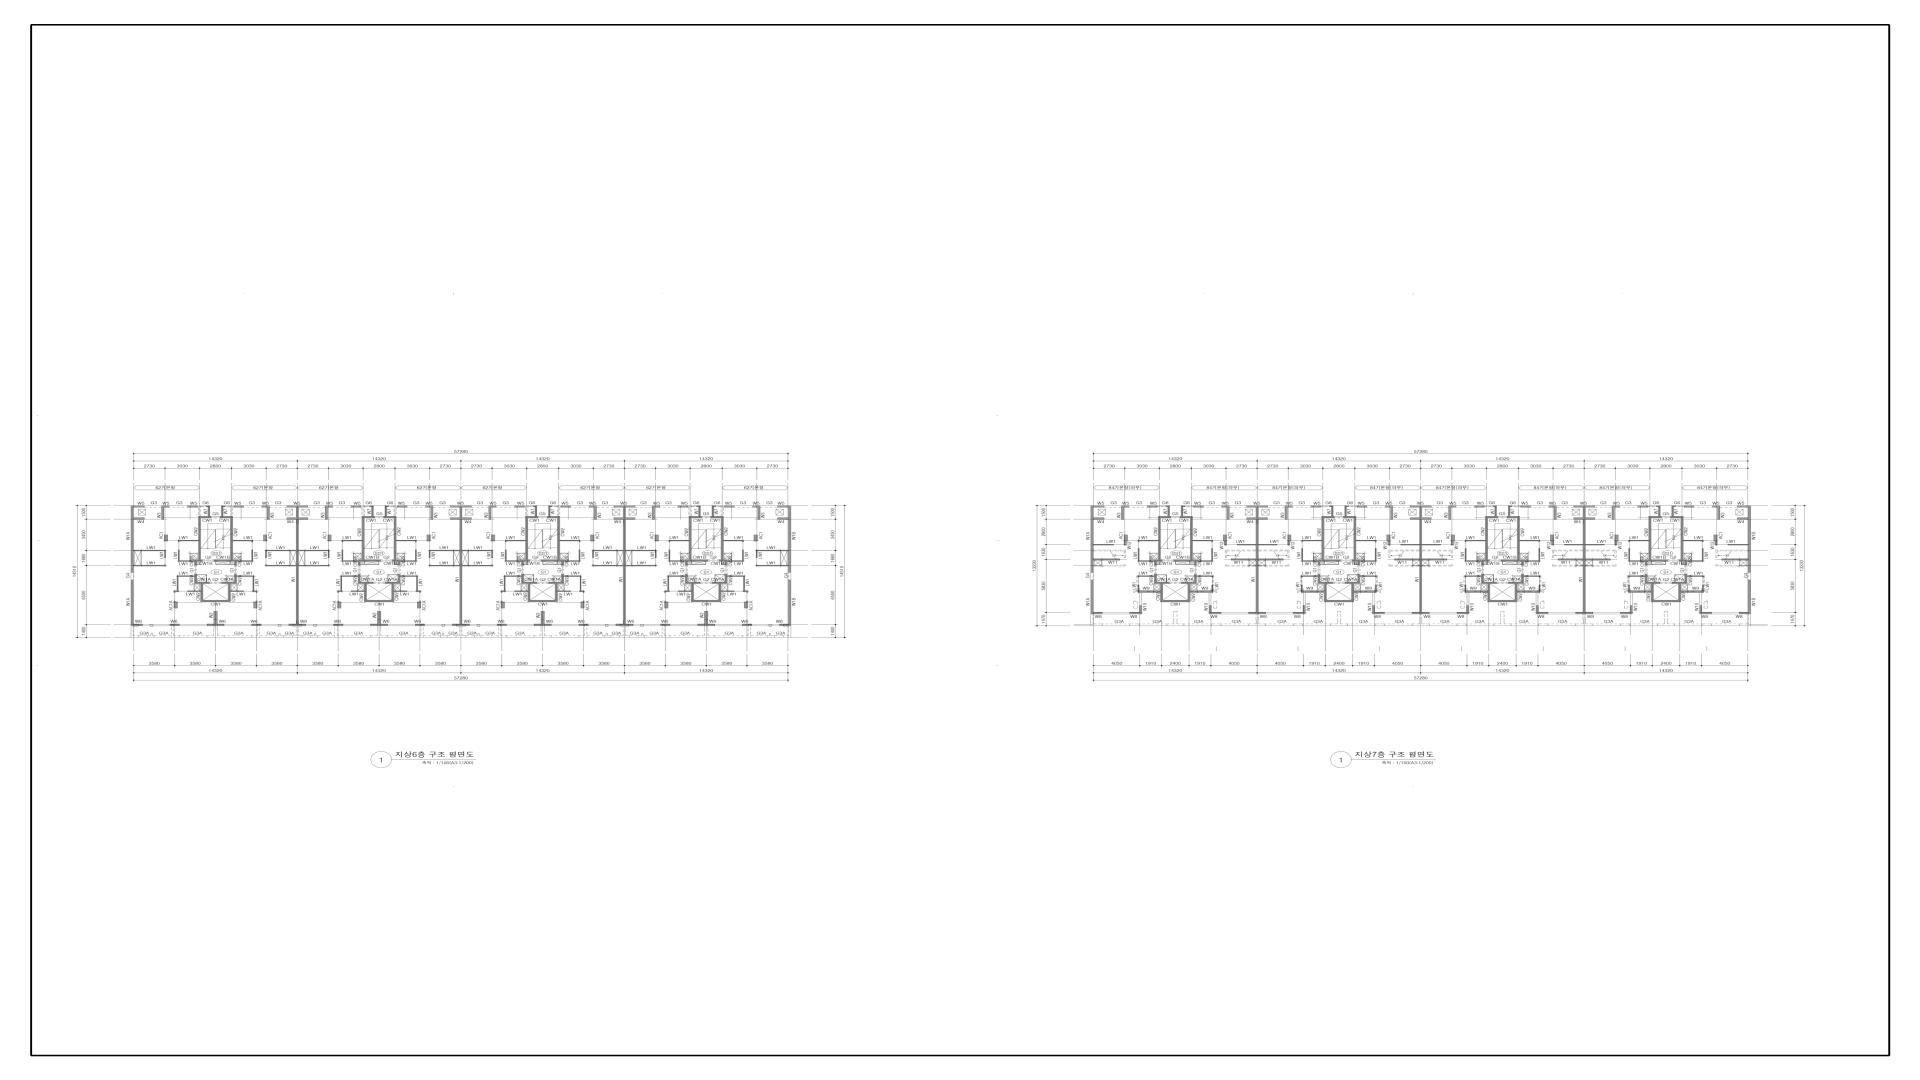wall: (778, 505, 791, 572), (1738, 505, 1751, 572), (131, 580, 142, 626), (779, 580, 791, 626), (194, 575, 210, 603), (222, 575, 237, 603), (385, 575, 401, 603), (521, 575, 537, 603), (549, 575, 564, 603), (1154, 575, 1170, 603), (1317, 575, 1333, 603), (1481, 575, 1497, 603), (1644, 575, 1660, 603), (1509, 575, 1524, 603), (712, 575, 728, 601), (1672, 575, 1688, 601), (1739, 580, 1751, 615), (1091, 580, 1102, 615), (359, 575, 373, 603), (686, 575, 700, 603), (1182, 575, 1196, 603), (1345, 575, 1360, 603), (231, 516, 237, 566), (394, 516, 401, 566), (357, 516, 364, 566), (521, 516, 527, 566), (558, 516, 564, 566), (721, 516, 728, 566), (1317, 516, 1324, 566), (1481, 516, 1487, 566), (1681, 516, 1688, 566), (1644, 516, 1651, 566), (1518, 516, 1524, 566), (624, 520, 626, 624), (207, 611, 224, 626), (371, 611, 388, 626), (534, 611, 551, 626), (698, 611, 715, 626), (297, 524, 299, 624), (686, 516, 691, 566), (1191, 516, 1196, 566), (1354, 516, 1360, 566), (756, 550, 789, 558), (287, 505, 309, 517), (451, 505, 472, 517), (615, 505, 636, 517), (429, 550, 460, 558), (592, 550, 624, 558), (462, 550, 493, 558), (1246, 505, 1267, 517), (1410, 505, 1431, 517), (1582, 520, 1585, 612), (626, 550, 657, 558), (1575, 505, 1594, 517), (1255, 524, 1258, 612), (1196, 549, 1213, 562), (1360, 549, 1377, 562), (1523, 549, 1540, 562), (1138, 549, 1154, 562), (1302, 549, 1317, 562), (1465, 549, 1481, 562), (1629, 549, 1644, 562), (1688, 549, 1704, 562), (236, 550, 253, 562), (342, 550, 359, 562), (669, 550, 686, 562), (178, 550, 194, 562), (505, 550, 521, 562), (401, 550, 417, 562), (564, 550, 580, 562), (728, 550, 744, 562), (1354, 584, 1377, 592), (1138, 584, 1160, 592), (1302, 584, 1324, 592), (1465, 584, 1487, 592), (1629, 585, 1651, 593), (1518, 584, 1540, 592), (1191, 585, 1213, 592), (1681, 585, 1704, 592), (131, 520, 133, 572), (1091, 520, 1093, 572), (460, 520, 462, 624), (1420, 520, 1422, 612), (198, 516, 200, 559), (161, 505, 169, 520), (324, 505, 332, 520), (589, 505, 597, 520), (753, 505, 761, 520), (1121, 505, 1129, 520), (1221, 505, 1229, 520), (1284, 505, 1292, 520), (1448, 505, 1456, 520), (1158, 516, 1160, 559), (1130, 605, 1142, 615), (1294, 605, 1305, 615), (1209, 605, 1221, 615), (1373, 605, 1385, 615), (1536, 605, 1548, 615), (1700, 605, 1712, 615), (1457, 605, 1469, 615), (1621, 605, 1633, 615), (262, 505, 269, 520), (489, 505, 496, 520), (653, 505, 659, 520), (426, 505, 433, 520), (1613, 505, 1619, 520), (1386, 505, 1393, 520), (1549, 505, 1556, 520), (1713, 505, 1720, 520), (367, 600, 392, 603), (530, 600, 555, 603), (694, 600, 719, 603), (203, 600, 228, 603), (1327, 600, 1352, 603), (1490, 600, 1515, 603), (1654, 600, 1679, 603), (1163, 600, 1188, 603), (194, 559, 203, 566), (450, 517, 472, 520), (1573, 517, 1596, 520), (178, 539, 199, 542), (287, 517, 309, 520), (615, 517, 636, 520), (505, 539, 526, 542), (669, 539, 690, 542), (1246, 517, 1267, 520), (1410, 517, 1431, 520), (1192, 539, 1213, 542), (1356, 539, 1377, 542), (233, 539, 253, 542), (397, 539, 417, 542), (560, 539, 580, 542), (1138, 539, 1158, 542), (1154, 559, 1162, 566), (1520, 539, 1540, 542), (1465, 539, 1485, 542), (1629, 539, 1648, 542), (214, 559, 231, 562), (364, 559, 381, 562), (541, 559, 558, 562), (691, 559, 708, 562), (616, 624, 633, 626), (452, 624, 469, 626), (289, 624, 306, 626), (1174, 559, 1191, 562), (1196, 575, 1213, 578), (1324, 559, 1341, 562), (1501, 559, 1518, 562), (1651, 559, 1668, 562), (1249, 612, 1266, 615), (1360, 575, 1377, 578), (1412, 612, 1429, 615), (1576, 612, 1593, 615), (133, 550, 166, 551), (133, 564, 166, 566), (756, 564, 789, 566), (265, 550, 297, 551), (265, 564, 297, 566), (429, 564, 460, 566), (592, 564, 624, 566), (462, 564, 493, 566), (206, 505, 210, 516), (369, 505, 373, 516), (533, 505, 537, 516), (696, 505, 700, 516), (222, 505, 225, 516), (385, 505, 389, 516), (549, 505, 553, 516), (712, 505, 716, 516), (1138, 575, 1154, 578), (1166, 505, 1170, 516), (1329, 505, 1333, 516), (1493, 505, 1497, 516), (1656, 505, 1660, 516), (1182, 505, 1185, 516), (1345, 505, 1349, 516), (1509, 505, 1513, 516), (1672, 505, 1676, 516), (1302, 575, 1317, 578), (1465, 575, 1481, 578), (1629, 575, 1644, 578), (1524, 575, 1540, 578), (1688, 575, 1704, 578), (299, 550, 330, 551), (299, 564, 330, 566), (626, 564, 657, 566), (131, 505, 145, 508), (131, 517, 145, 520), (1091, 505, 1104, 508), (1091, 517, 1104, 520), (1093, 559, 1120, 560), (1722, 559, 1749, 560), (1230, 559, 1255, 560), (1258, 559, 1283, 560), (1395, 559, 1420, 560), (1422, 559, 1447, 560), (1585, 559, 1610, 560), (1559, 559, 1582, 560), (200, 516, 211, 518), (220, 516, 231, 518), (364, 516, 375, 518), (384, 516, 394, 518), (527, 516, 538, 518), (547, 516, 558, 518), (691, 516, 702, 518), (711, 516, 721, 518), (778, 517, 789, 520), (187, 505, 198, 508), (233, 505, 244, 508), (351, 505, 361, 508), (397, 505, 407, 508), (514, 505, 525, 508), (560, 505, 571, 508), (678, 505, 688, 508), (724, 505, 735, 508), (1160, 516, 1171, 518), (1180, 516, 1191, 518), (1324, 516, 1335, 518), (1487, 516, 1498, 518), (1507, 516, 1518, 518), (1651, 516, 1662, 518), (1671, 516, 1681, 518), (1738, 517, 1749, 520), (1344, 516, 1354, 518), (1147, 505, 1158, 508), (1193, 505, 1204, 508), (1311, 505, 1321, 508), (1357, 505, 1367, 508), (1474, 505, 1485, 508), (1520, 505, 1531, 508), (1638, 505, 1648, 508), (1684, 505, 1695, 508), (1093, 545, 1114, 546), (1727, 545, 1749, 546), (148, 633, 154, 637), (174, 601, 178, 608), (253, 601, 257, 608), (277, 633, 284, 637), (311, 633, 318, 637), (475, 633, 481, 637), (638, 633, 645, 637), (440, 633, 447, 637), (604, 633, 611, 637), (767, 633, 774, 637), (342, 541, 361, 542), (338, 601, 342, 608), (501, 601, 505, 608), (665, 601, 669, 608), (417, 601, 421, 608), (580, 601, 584, 608), (744, 601, 748, 608), (724, 541, 744, 542), (1302, 541, 1321, 542), (1684, 541, 1704, 542), (1258, 545, 1278, 546), (1422, 545, 1441, 546), (667, 575, 686, 576), (131, 508, 133, 517), (340, 575, 359, 576), (170, 624, 179, 626), (252, 624, 261, 626), (334, 624, 343, 626), (497, 624, 506, 626), (579, 624, 588, 626), (661, 624, 670, 626), (742, 624, 752, 626), (415, 624, 425, 626), (1091, 508, 1093, 517), (1564, 545, 1582, 546), (504, 575, 521, 576), (564, 575, 582, 576), (728, 575, 745, 576), (177, 575, 194, 576), (237, 575, 255, 576), (401, 575, 418, 576), (591, 535, 595, 541), (754, 535, 758, 541), (1124, 535, 1127, 541), (1287, 535, 1291, 541), (417, 576, 418, 591), (504, 576, 505, 591), (580, 576, 582, 591), (667, 576, 669, 591), (744, 576, 745, 591), (177, 576, 178, 591), (253, 576, 255, 591), (340, 576, 342, 591), (394, 591, 407, 592), (514, 591, 527, 592), (558, 591, 571, 592), (678, 591, 691, 592), (721, 591, 735, 592), (187, 591, 200, 592), (231, 591, 244, 592), (351, 591, 364, 592), (165, 535, 167, 541), (264, 535, 266, 541), (328, 535, 331, 541), (427, 535, 430, 541), (492, 535, 495, 541), (655, 535, 658, 541), (1224, 535, 1226, 541), (1387, 535, 1390, 541), (1452, 535, 1455, 541), (1551, 535, 1553, 541), (1615, 535, 1618, 541), (1714, 535, 1717, 541), (1124, 541, 1126, 545), (1224, 541, 1226, 545), (1287, 541, 1290, 545), (1451, 541, 1453, 545), (165, 551, 166, 558), (265, 551, 266, 558), (328, 551, 330, 558), (415, 591, 421, 592), (501, 591, 506, 592), (579, 591, 584, 592), (665, 591, 670, 592), (742, 591, 748, 592), (150, 624, 153, 626), (278, 624, 281, 626), (314, 624, 316, 626), (477, 624, 480, 626), (641, 624, 644, 626), (442, 624, 444, 626), (605, 624, 608, 626), (769, 624, 771, 626), (174, 591, 179, 592), (252, 591, 257, 592), (392, 559, 394, 562), (338, 591, 343, 592), (527, 559, 530, 562), (1352, 559, 1354, 562), (1487, 559, 1490, 562), (1679, 559, 1681, 562), (1552, 541, 1553, 546), (297, 520, 298, 524), (1257, 520, 1258, 524), (1389, 541, 1390, 545), (1615, 541, 1617, 545), (1716, 541, 1717, 545), (720, 559, 721, 562), (1237, 545, 1255, 545), (1400, 545, 1420, 545), (1585, 545, 1605, 545)
